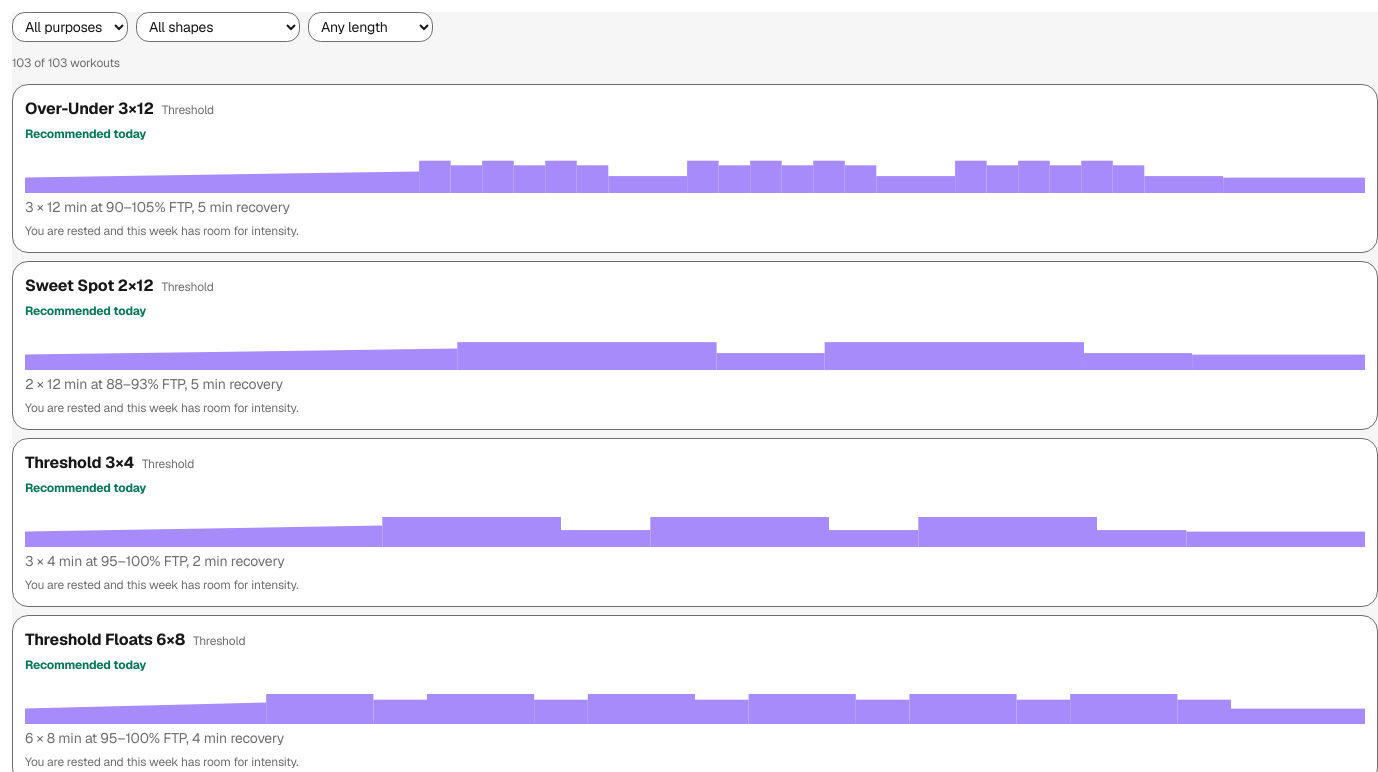
WorkoutPicker › carries the day and the athlete's local today into the form
Click the button that starts with "Over-Under 3×12" at (695, 168), box [25, 97, 1365, 240]
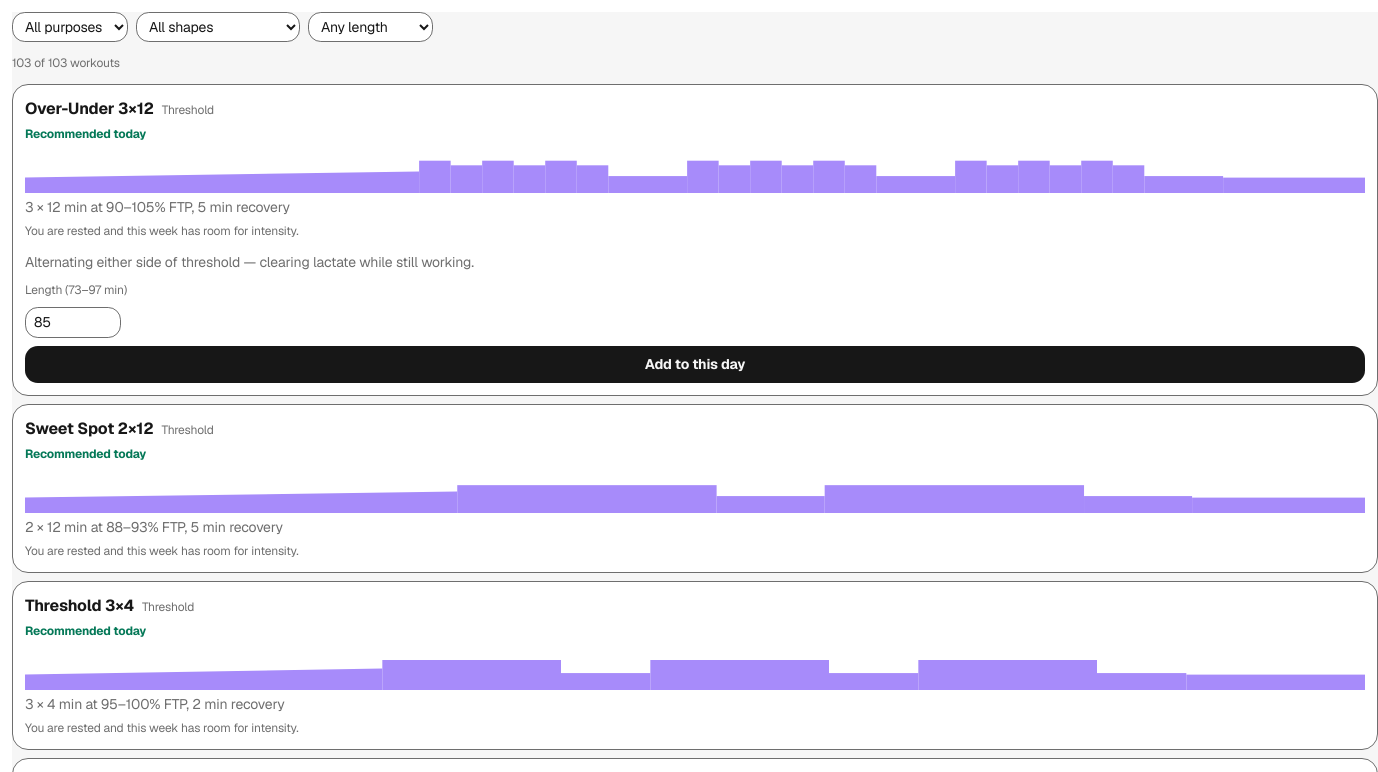
Now the form named "date" holds "2026-09-10", box [25, 252, 1365, 383]
Now the form named "today" holds "2026-09-08", box [25, 252, 1365, 383]
